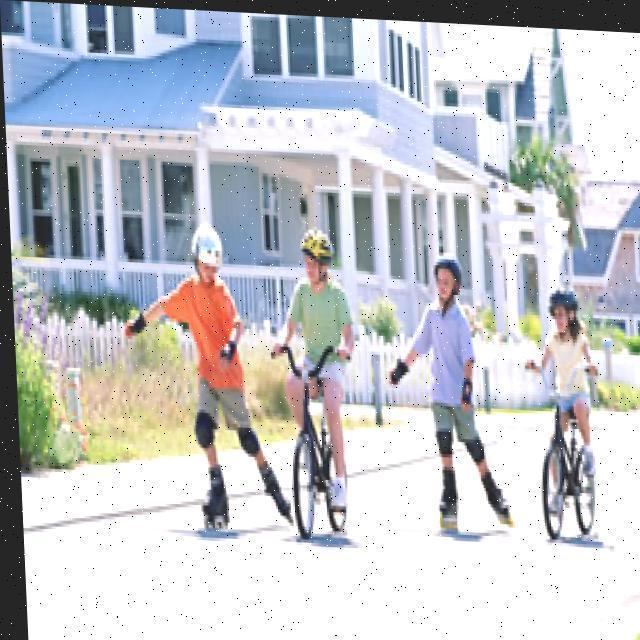Helmet: (286, 216, 342, 292), (535, 262, 587, 341), (178, 209, 225, 284), (426, 247, 460, 303)
